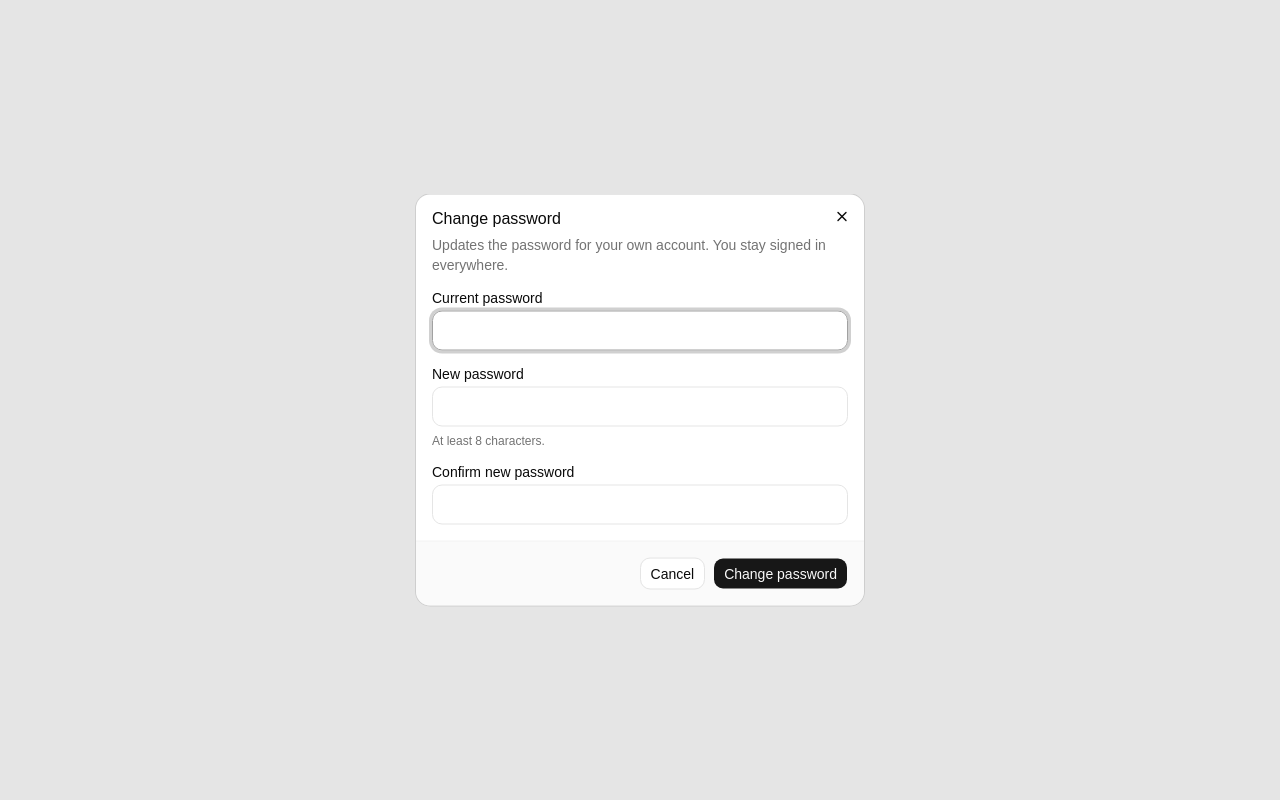
Test: ChangePasswordDialog › keeps a wrong current password on screen
The width and height of the screenshot is (1280, 800).
Type "wrong" into the password field labelled "Current password" at (640, 330), box 432,310 -> 848,350
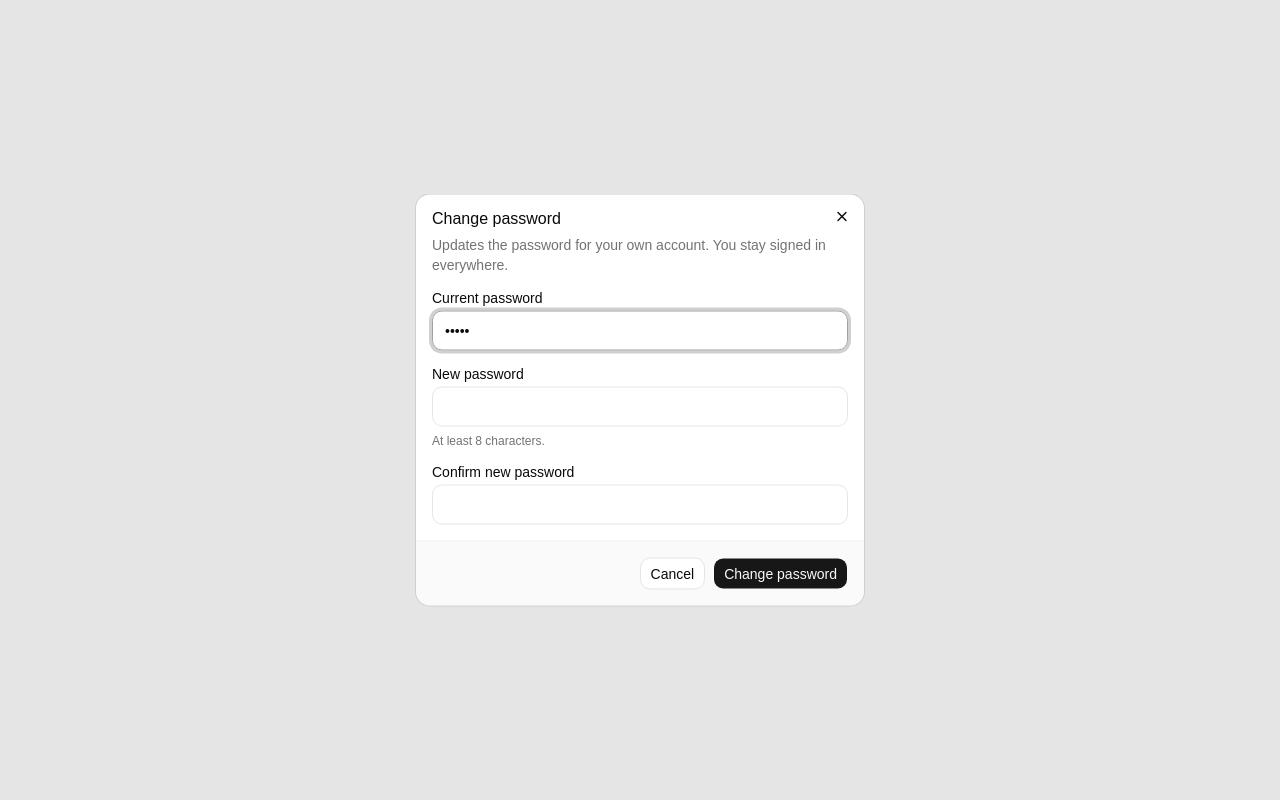
Type "new-secret-1" into the password field labelled "New password" at (640, 406), box 432,386 -> 848,426
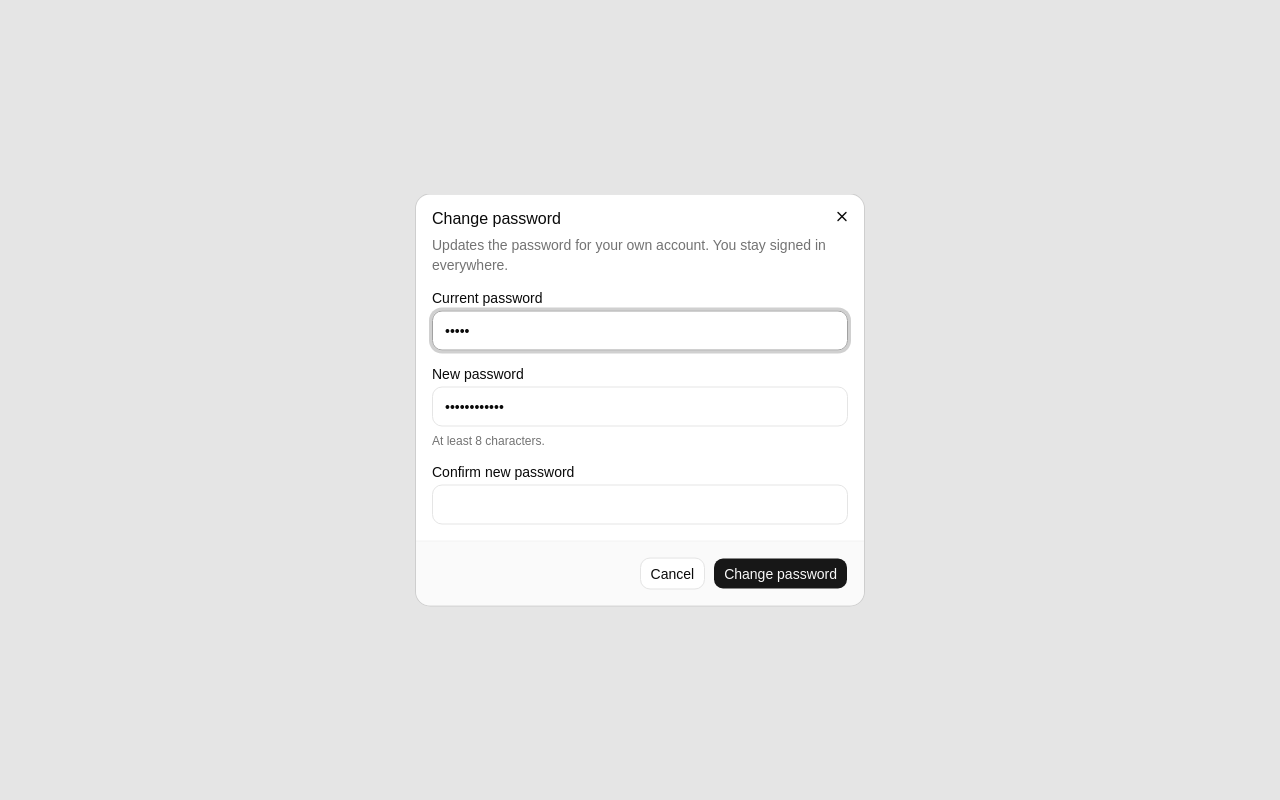
Type "new-secret-1" into the password field labelled "Confirm new password" at (640, 504), box 432,484 -> 848,524
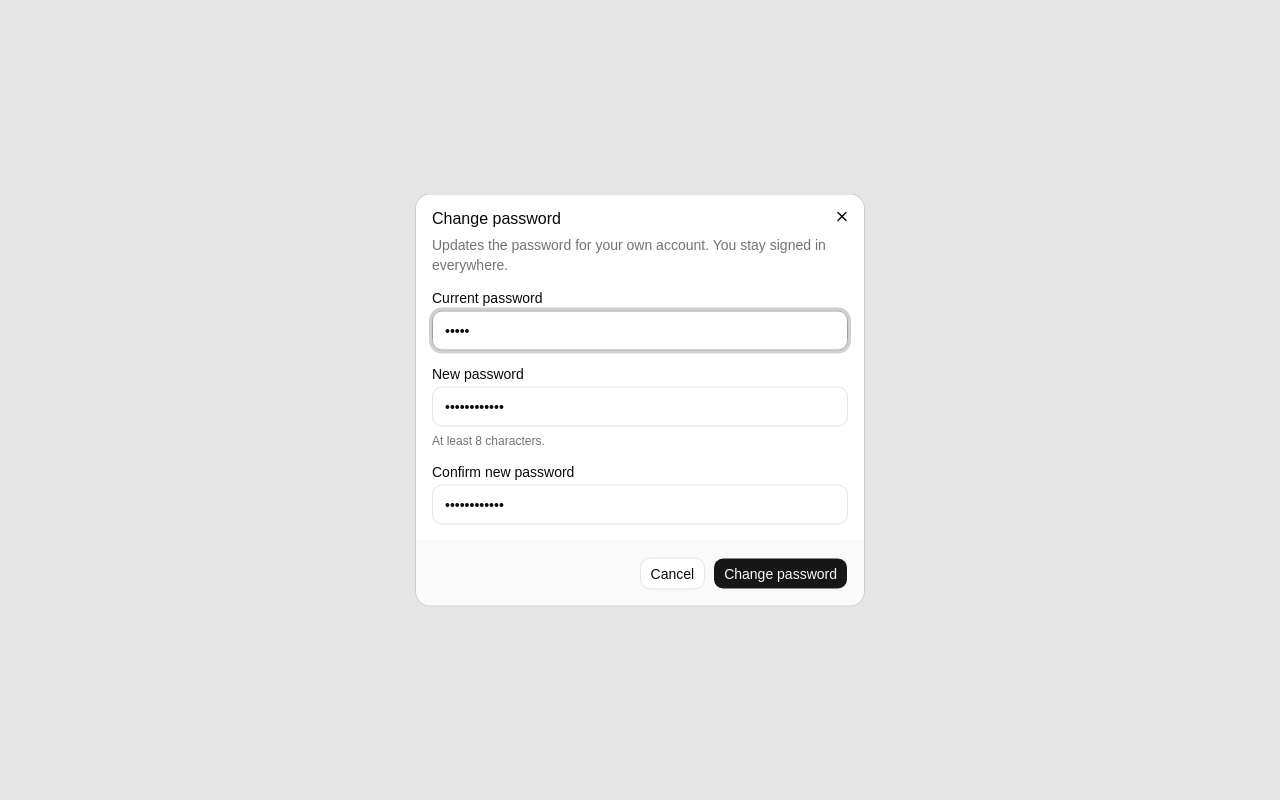
Click the button "Change password" at (781, 574), box 713,558 -> 848,590
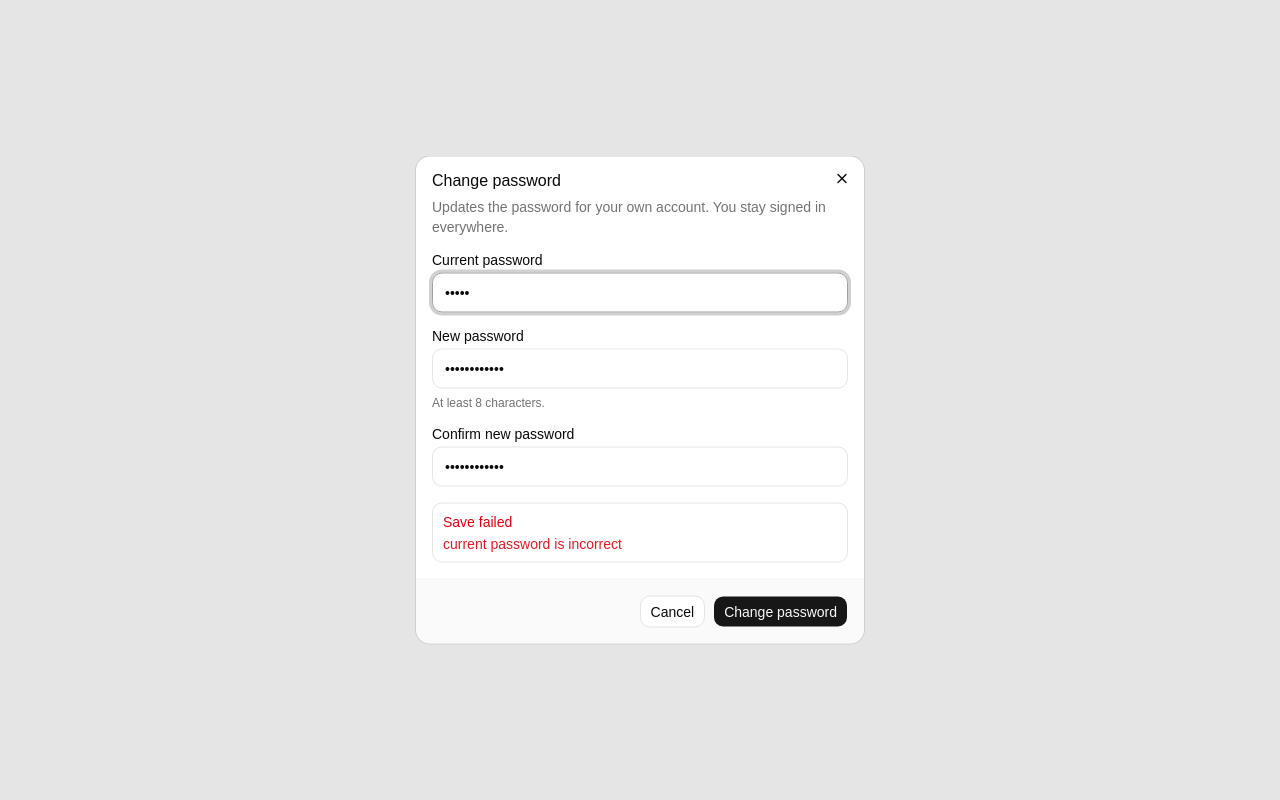
Check: the text "current password is incorrect" is shown, box 443,536 -> 622,552
